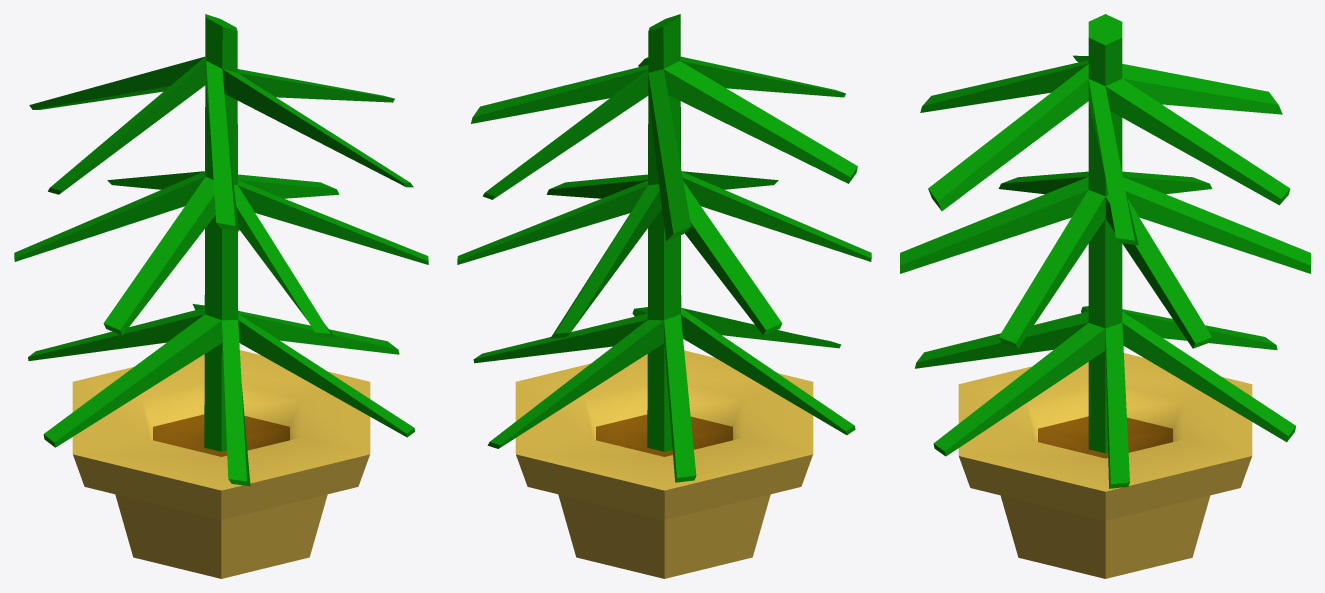
File: prp_bigplant.fbx
3 views of the same model, side by side, from view 1: azimuth 30°, elevation 25°; view 2: azimuth 150°, elevation 25°; view 3: azimuth 270°, elevation 25° (orthographic).
Visible parts, largest first — view 1: prp_bigplant; view 2: prp_bigplant; view 3: prp_bigplant.
Boxes of the visible parts, bbox=[...] form: prp_bigplant: bbox=[14, 14, 428, 578]; prp_bigplant: bbox=[457, 14, 871, 578]; prp_bigplant: bbox=[900, 14, 1310, 578].
Bounding box in the file's own units: 4.08 × 5.65 × 4.09.
